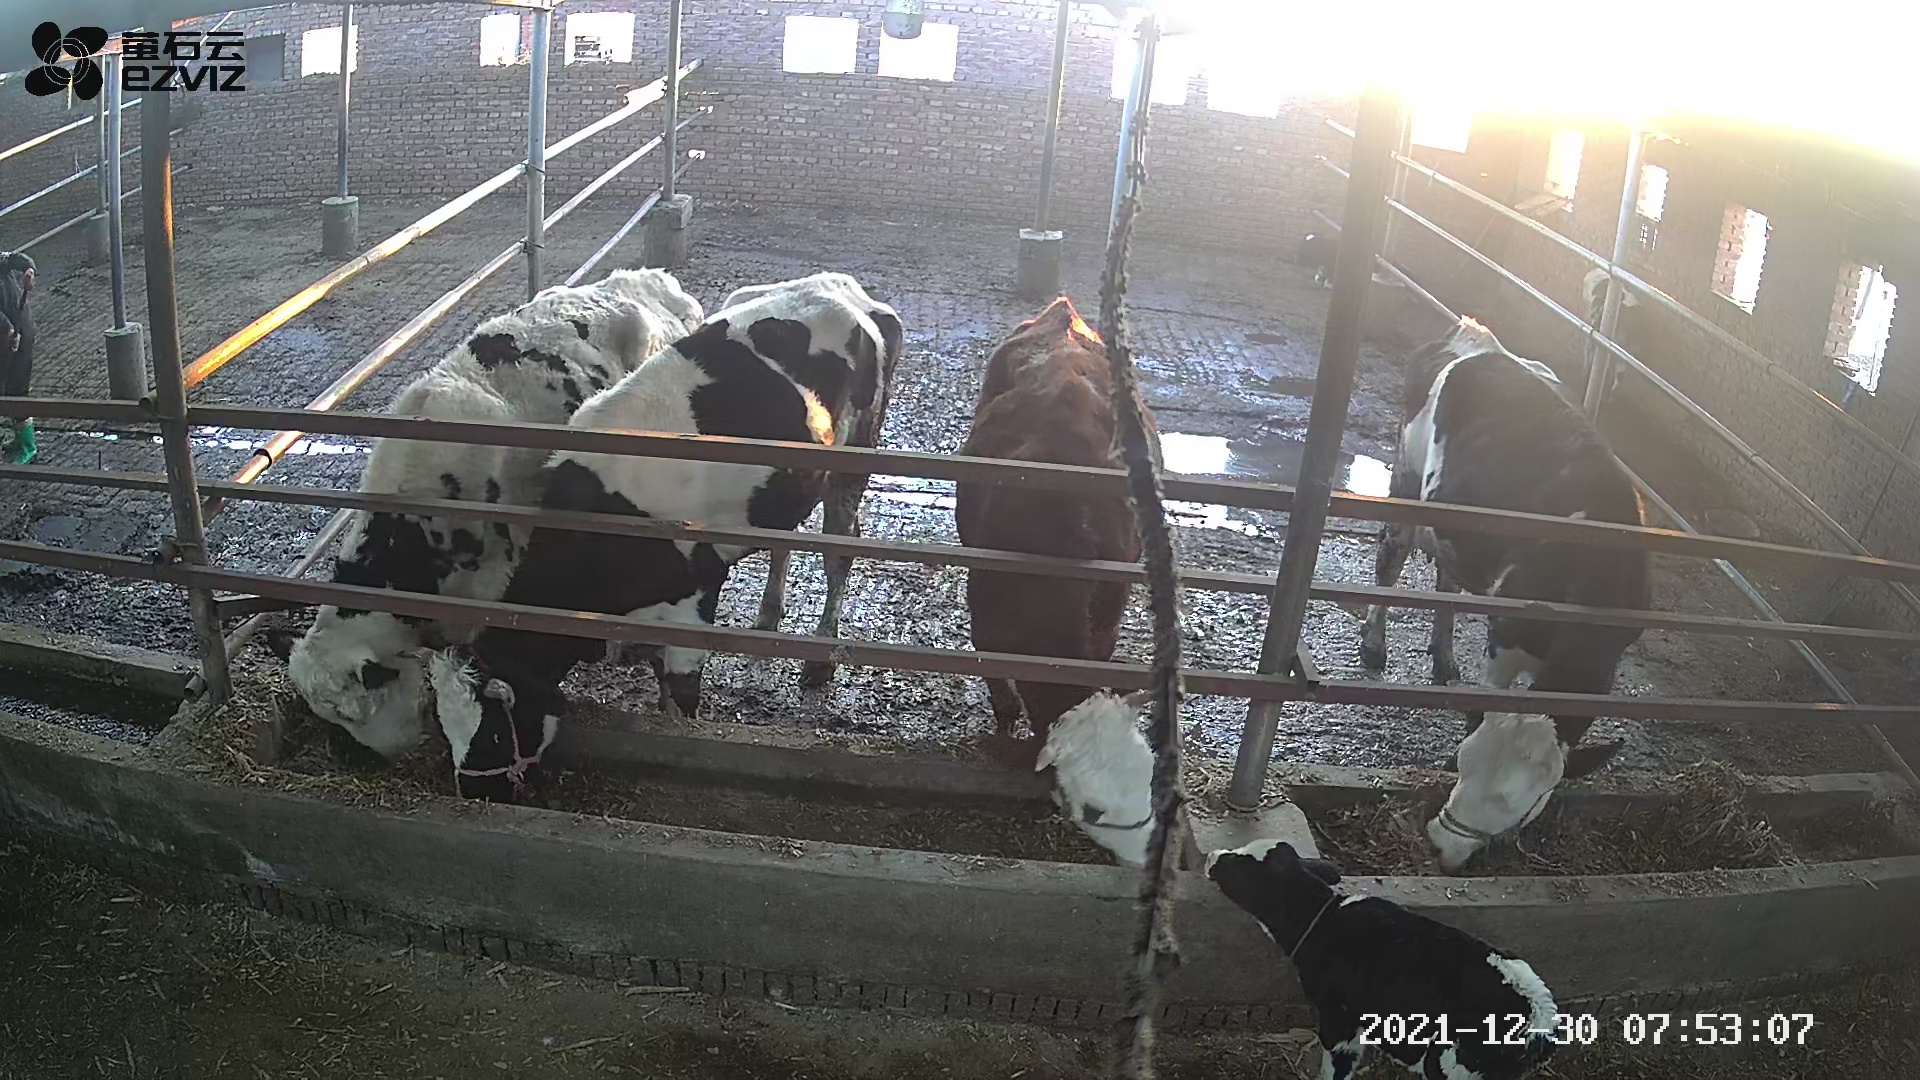cow: (392, 272, 905, 807), (262, 265, 707, 762), (1357, 311, 1651, 872), (953, 298, 1163, 872)
